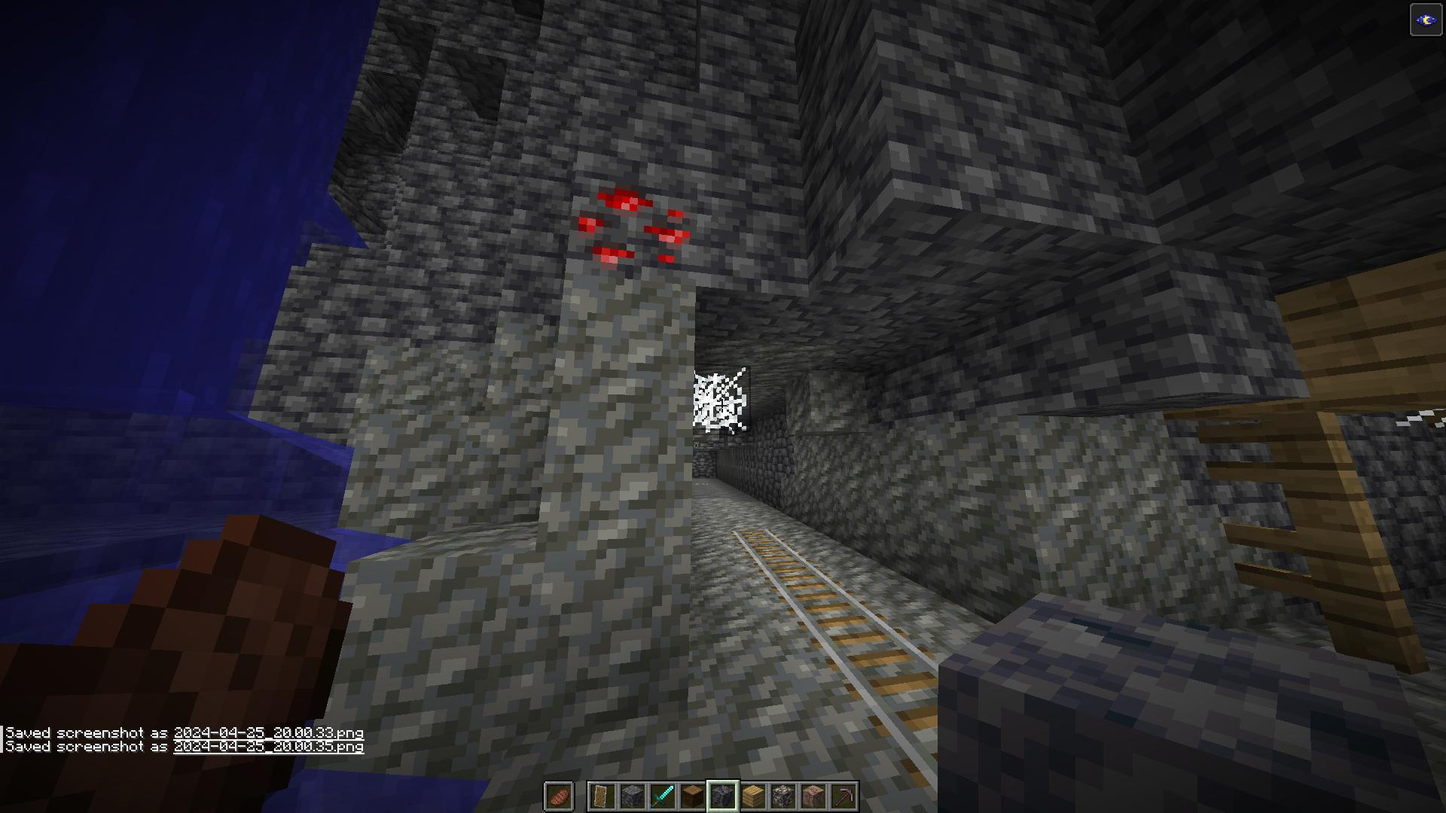redstone ore: (573, 181, 697, 279)
